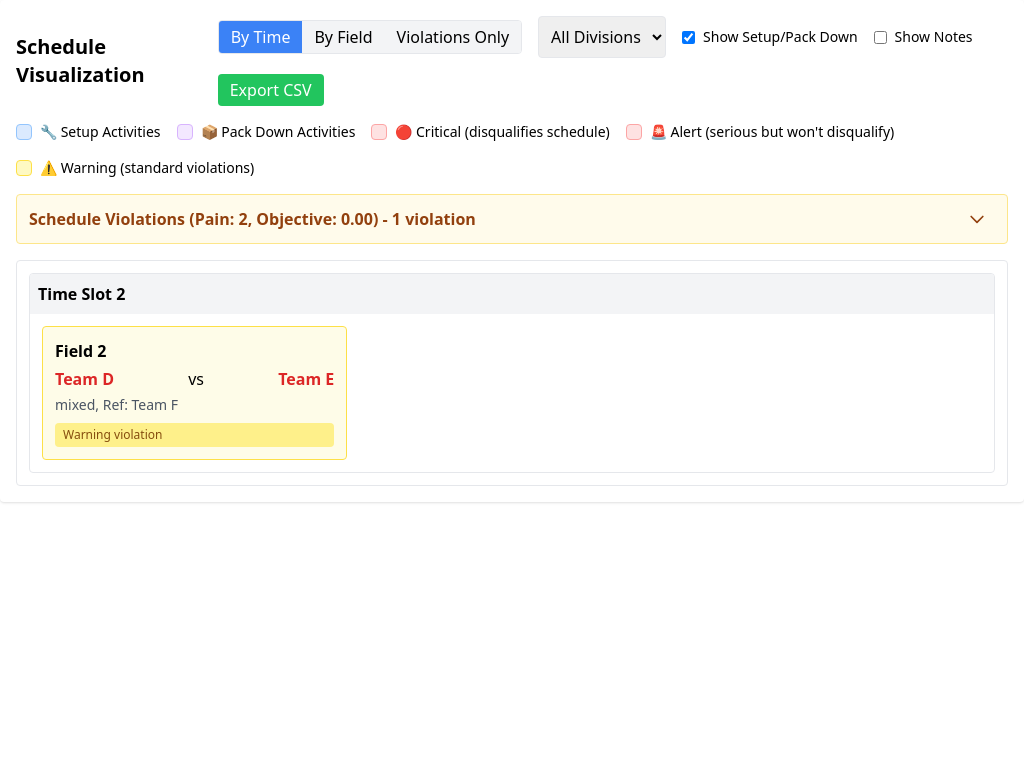
Test: ScheduleVisualization › respects Show Notes in violations-only mode
Click the button "Violations Only".
click(453, 37)  # box [385,21,521,53]
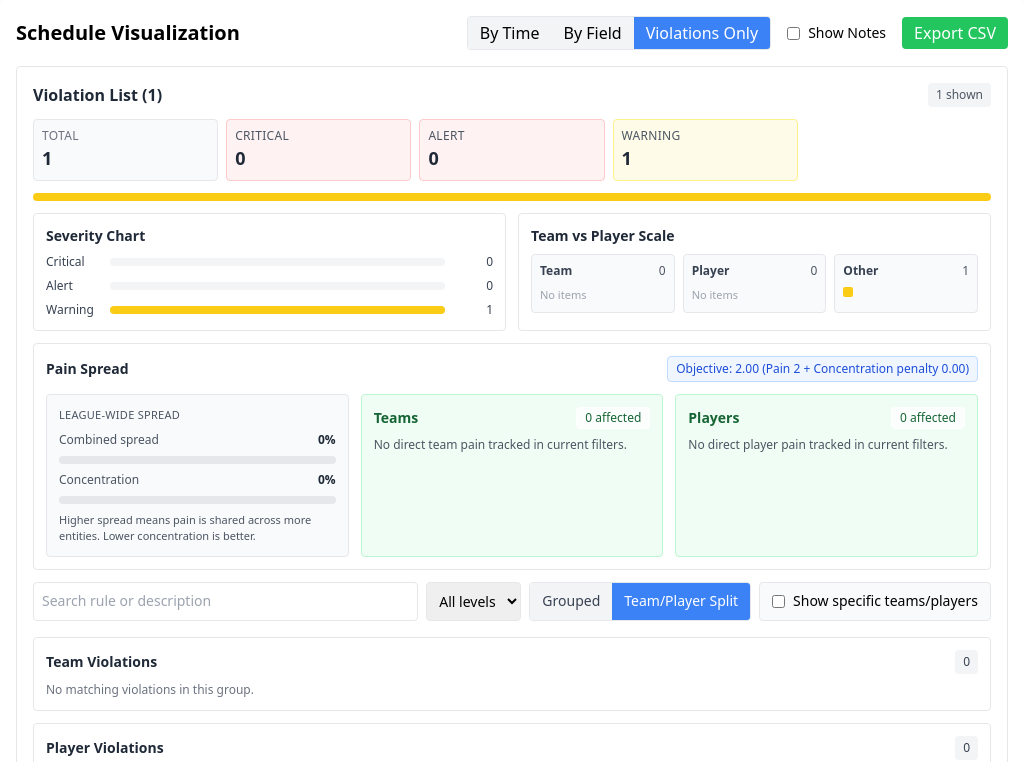
Expected: the heading "Violation List (1)" is shown, [33,83,162,107]
Click the checkbox labelled "Show Notes".
click(794, 33)  # box [787,26,800,40]
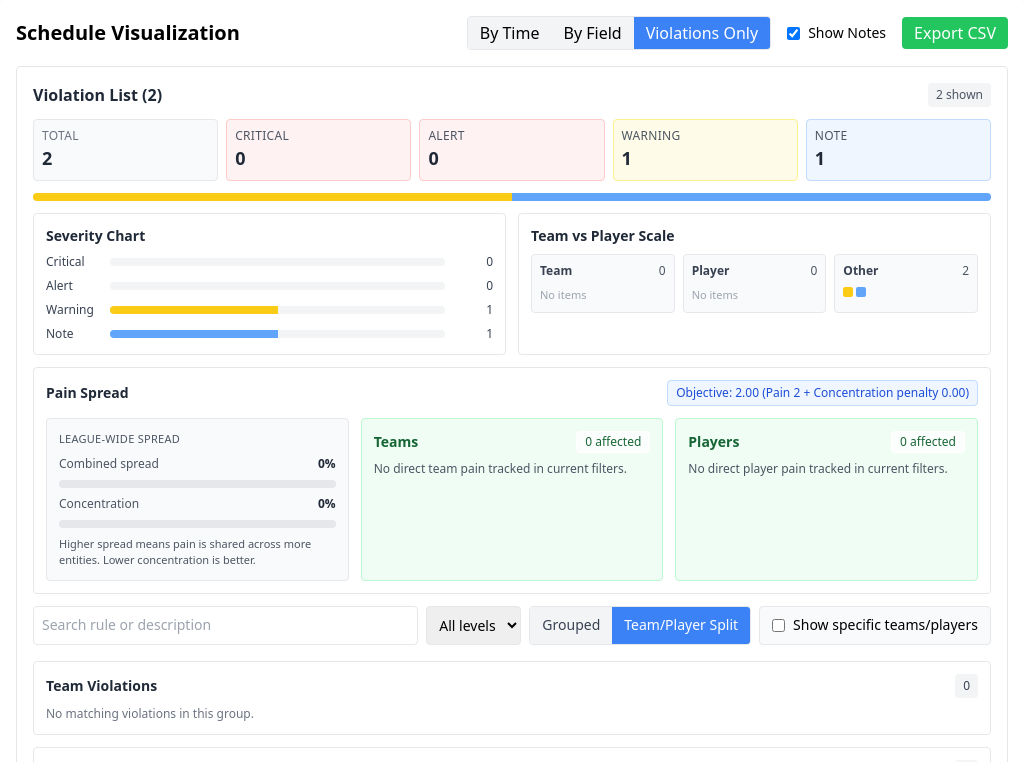
Expected: the heading "Violation List (2)" is shown, [33,83,162,107]
Expected: the text "Note" in the row of "Total" is shown, [815,127,848,144]
